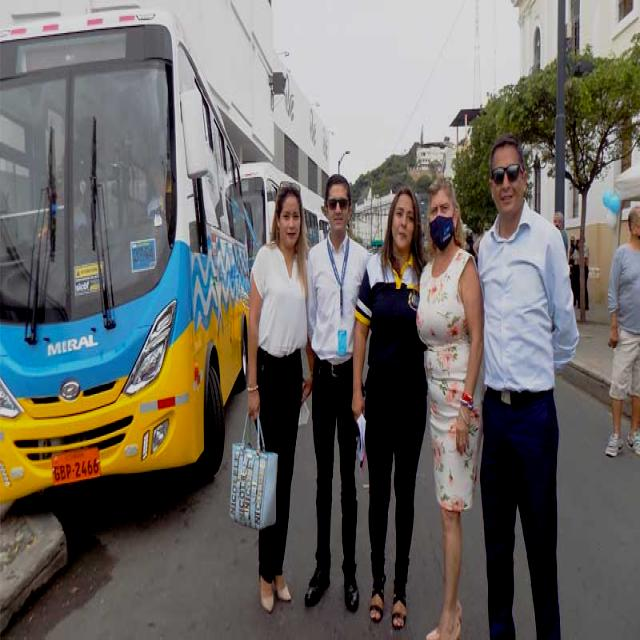BUS: (4, 25, 253, 527)
